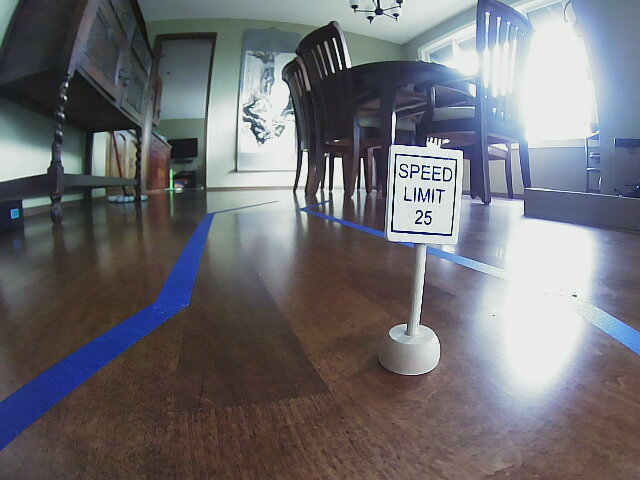SpeedLimit25: (390, 148, 456, 242)
